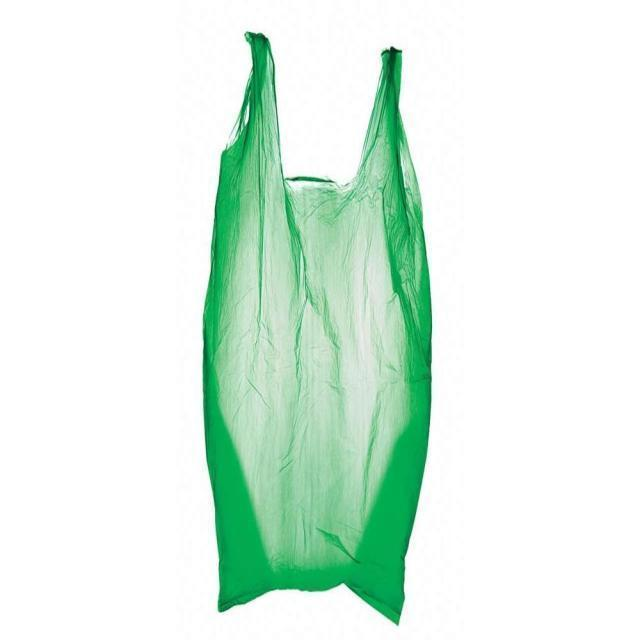Plastic_Bag: (208, 33, 436, 636)
